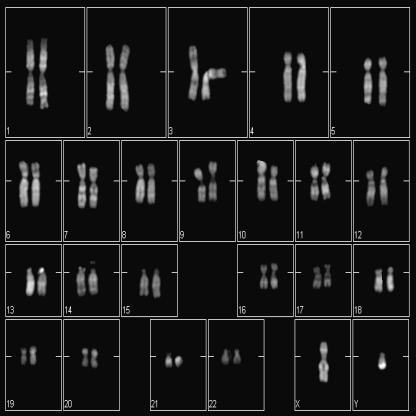1: (22, 36, 37, 108), (36, 36, 50, 111)
10: (254, 157, 269, 203), (268, 157, 283, 203)
11: (306, 159, 321, 209), (320, 158, 335, 208)
12: (364, 165, 376, 209), (378, 165, 390, 209)
13: (23, 265, 36, 298), (36, 264, 49, 297)
14: (74, 264, 87, 300), (87, 263, 100, 299)
15: (137, 265, 151, 298), (150, 264, 164, 297)
16: (257, 262, 269, 292), (270, 262, 282, 292)
17: (311, 264, 323, 292), (323, 263, 334, 291)
18: (373, 265, 385, 296), (383, 265, 395, 296)
19: (26, 344, 40, 366), (18, 344, 25, 364)
2: (102, 43, 117, 112), (118, 43, 132, 112)
20: (78, 344, 91, 368), (90, 344, 102, 368)
21: (162, 351, 174, 371), (174, 352, 186, 372)
22: (217, 344, 231, 366), (230, 344, 244, 366)
3: (201, 58, 230, 102), (186, 38, 200, 102)
4: (280, 50, 294, 106), (295, 48, 308, 104)
5: (374, 52, 388, 106), (359, 54, 373, 107)
6: (16, 157, 30, 208), (29, 156, 42, 208)
7: (86, 158, 102, 210), (74, 158, 88, 210)
8: (134, 160, 146, 205), (146, 160, 158, 205)
9: (208, 158, 222, 207), (193, 162, 207, 206)
X: (316, 336, 332, 384)
Y: (375, 347, 389, 373)
